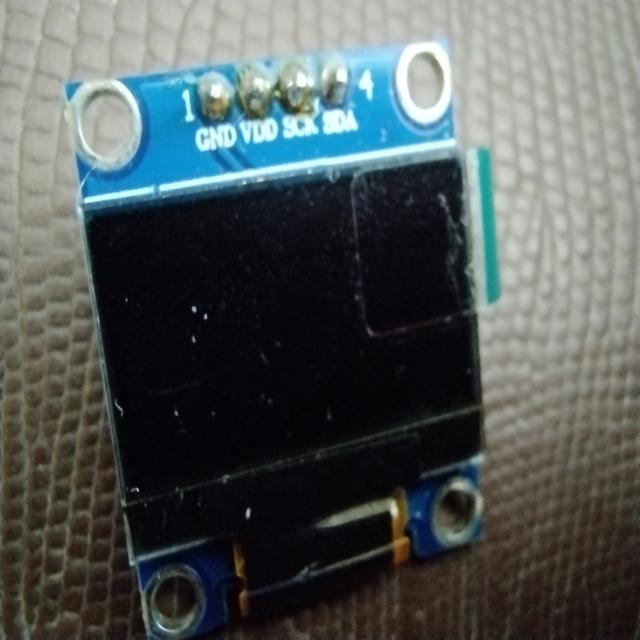oled: (56, 28, 513, 640)
